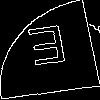E: (25, 25, 71, 76)
